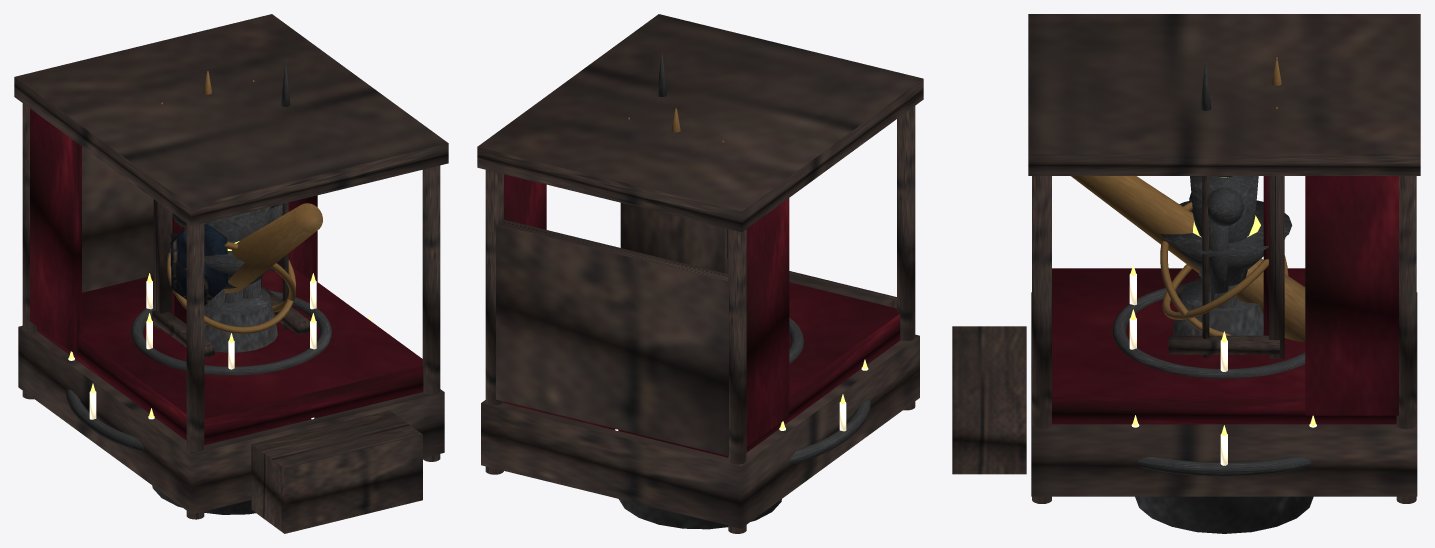
Rendered from ravencrest_showcase_props.glb.
3 renders of one model, left to right at view 1: azimuth 30°, elevation 25°; view 2: azimuth 150°, elevation 25°; view 3: azimuth 270°, elevation 25°, orthographic. The views are drawn at different scales.
Visible parts, largest first — view 1: Ravencrest_CanopyBed, Ravencrest_Telescope, Ravencrest_Chandelier, Ravencrest_KnightArmor, Ravencrest_ThroneChair, Ravencrest_StandingBrazier; view 2: Ravencrest_CanopyBed, Ravencrest_ThroneChair, Ravencrest_Chandelier, Ravencrest_Telescope; view 3: Ravencrest_CanopyBed, Ravencrest_Telescope, Ravencrest_Chandelier, Ravencrest_KnightArmor, Ravencrest_ThroneChair, Ravencrest_StandingBrazier.
Part boxes in pixels (left/top/right/bottom): Ravencrest_CanopyBed: left=14, top=14, right=448, bottom=533; Ravencrest_Telescope: left=152, top=203, right=322, bottom=514; Ravencrest_Chandelier: left=65, top=273, right=371, bottom=451; Ravencrest_KnightArmor: left=170, top=63, right=290, bottom=329; Ravencrest_ThroneChair: left=152, top=71, right=310, bottom=358; Ravencrest_StandingBrazier: left=170, top=232, right=244, bottom=303; Ravencrest_CanopyBed: left=477, top=14, right=923, bottom=533; Ravencrest_ThroneChair: left=620, top=108, right=728, bottom=273; Ravencrest_Chandelier: left=615, top=317, right=870, bottom=464; Ravencrest_Telescope: left=619, top=499, right=781, bottom=529; Ravencrest_CanopyBed: left=952, top=14, right=1420, bottom=503; Ravencrest_Telescope: left=1071, top=176, right=1313, bottom=533; Ravencrest_Chandelier: left=1112, top=265, right=1316, bottom=476; Ravencrest_KnightArmor: left=1189, top=62, right=1258, bottom=357; Ravencrest_ThroneChair: left=1168, top=57, right=1284, bottom=358; Ravencrest_StandingBrazier: left=1160, top=177, right=1292, bottom=269.
Size of the model in its own units: 2.39 by 3.28 by 3.03.
Materials: 9 (7 with a texture image).
